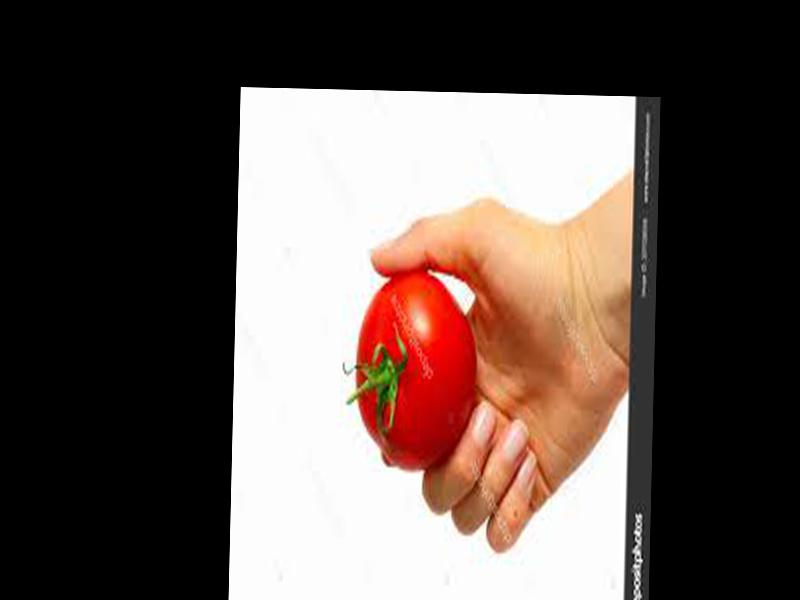Tomato: (352, 270, 479, 468)
